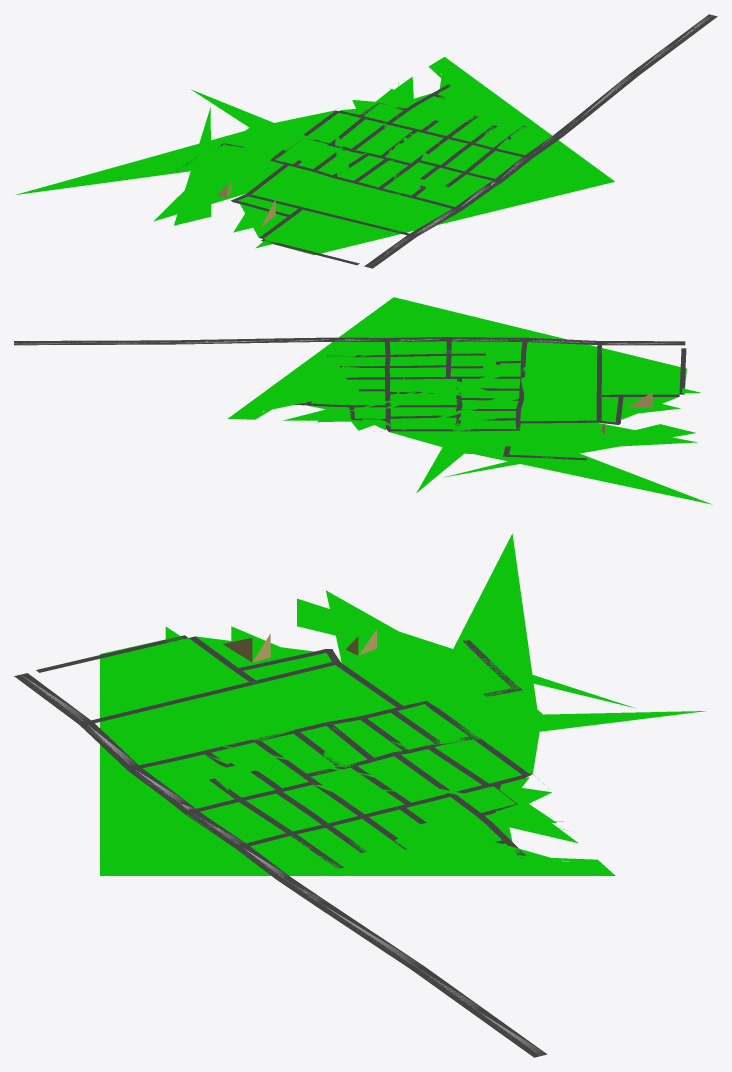
The picture shows the model from 3 angles, top to bottom: view 1: azimuth 30°, elevation 25°; view 2: azimuth 150°, elevation 25°; view 3: azimuth 270°, elevation 25°; orthographic projection. The views are drawn at different scales.
Size of the model in its own units: 567 by 12.5 by 321.
